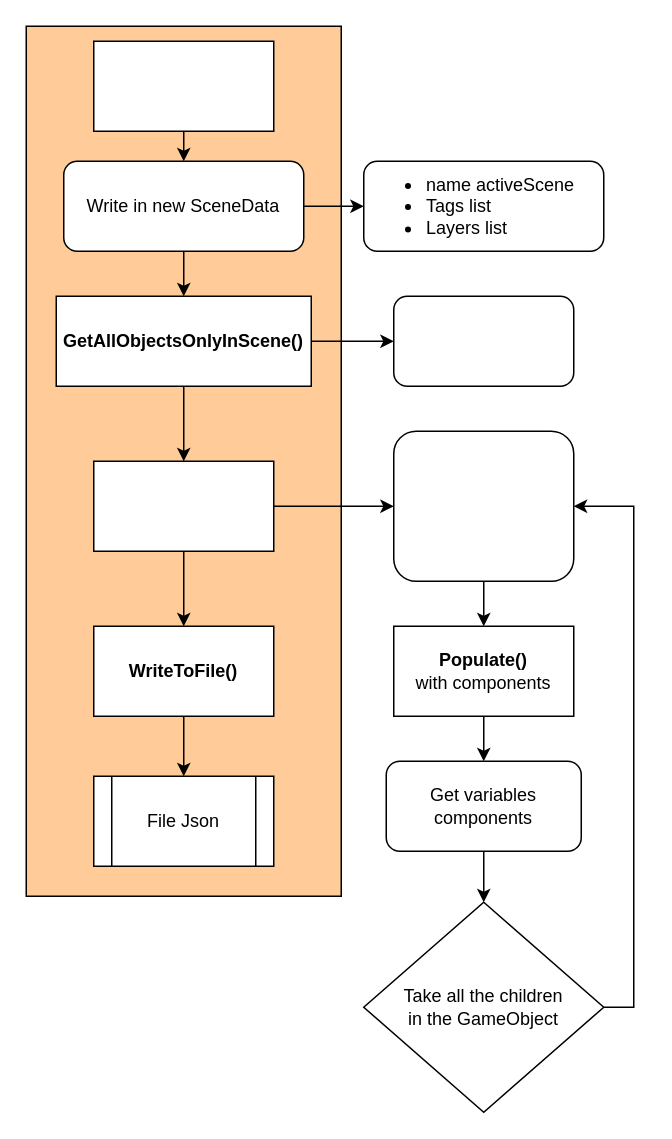
The diagram is 672 pixels wide and 1139 high, and some of its shapes have lost their labels. The shapes that lost their labels are listed below. From the top down, each one's centre as x and y in pixels, then its label:
At (x=183, y=85): "SaveHierarchy()".
At (x=483, y=340): "ignores hidden GameObjects".
At (x=183, y=505): "CheckHierarchy()".
At (x=483, y=505): "GameObject: name layer tag".
